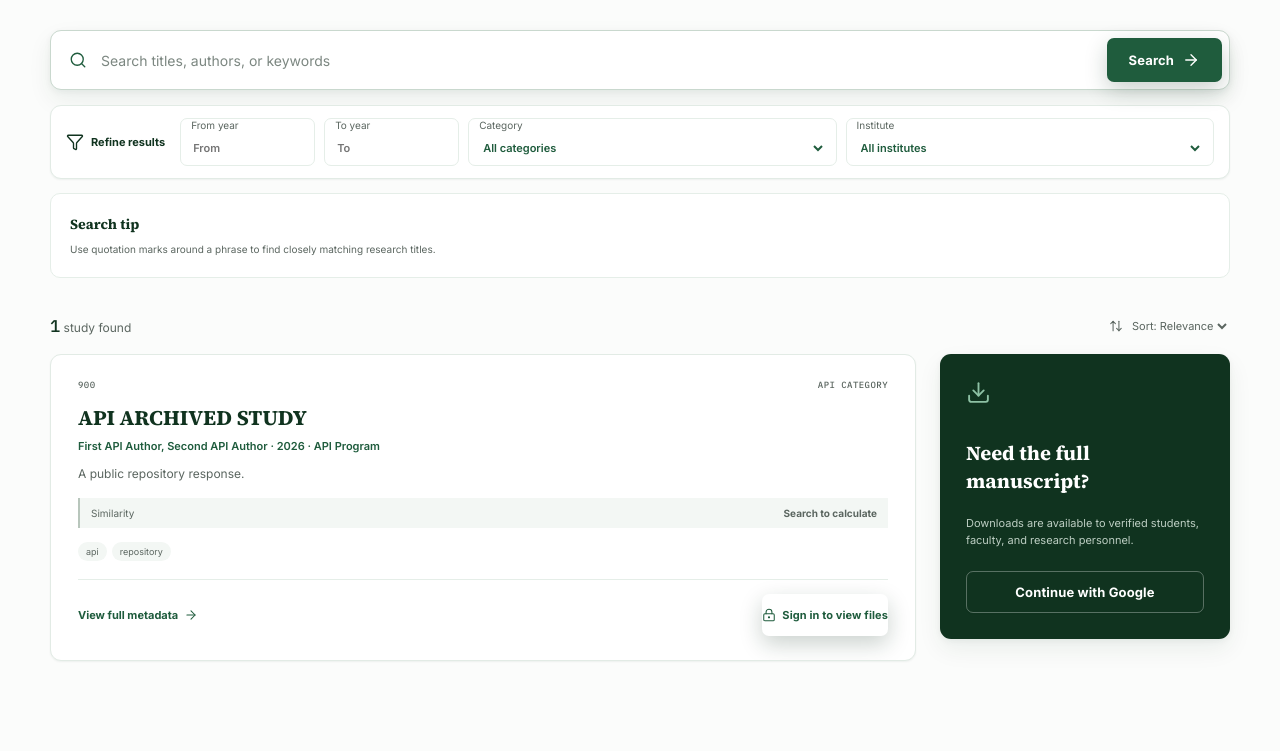
Test: public catalog › displays API metadata using the Laravel author resource shape
(page scrolled)
expect the heading "API ARCHIVED STUDY" is shown: met, box [78,403,307,432]
Step 1. Click the button "View full metadata" → click(138, 615), box [78,594,198,636]
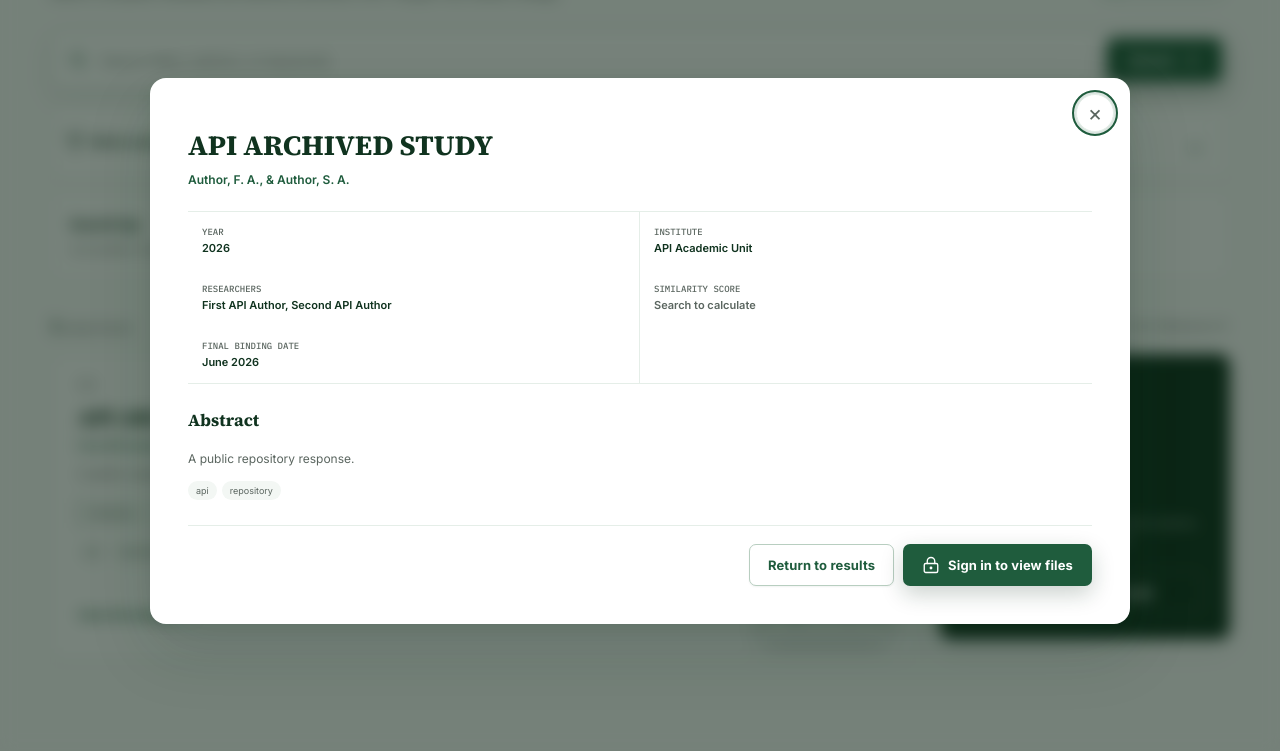
expect the text "First API Author, Second API Author" is shown: met, box [202,298,392,312]
expect the text "Final binding date" is shown: met, box [202,340,299,351]
expect the text "June 2026" is shown: met, box [202,355,259,369]
